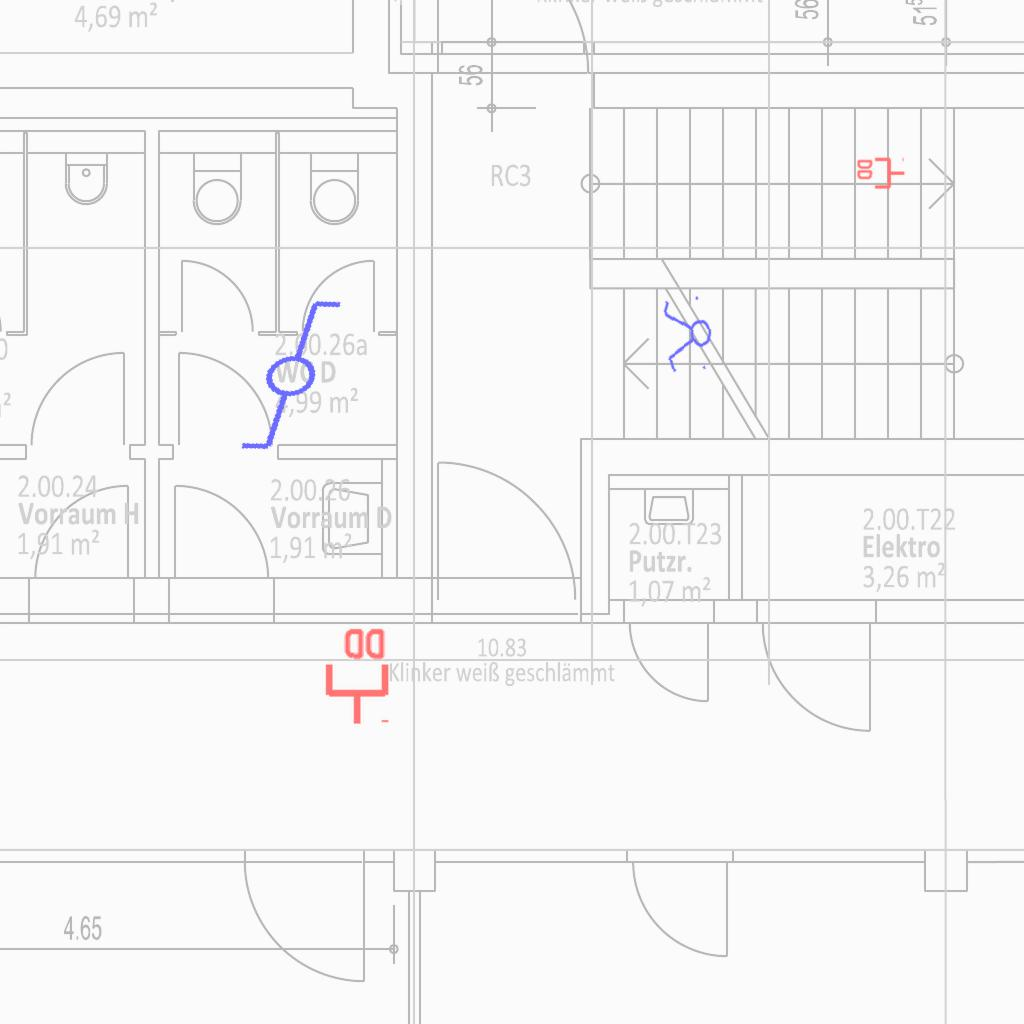Datenanschluss_zweifach: (321, 624, 390, 727), (855, 157, 906, 191)
Serienschalter: (659, 290, 717, 380)
Wechselschalter: (188, 287, 377, 465)
